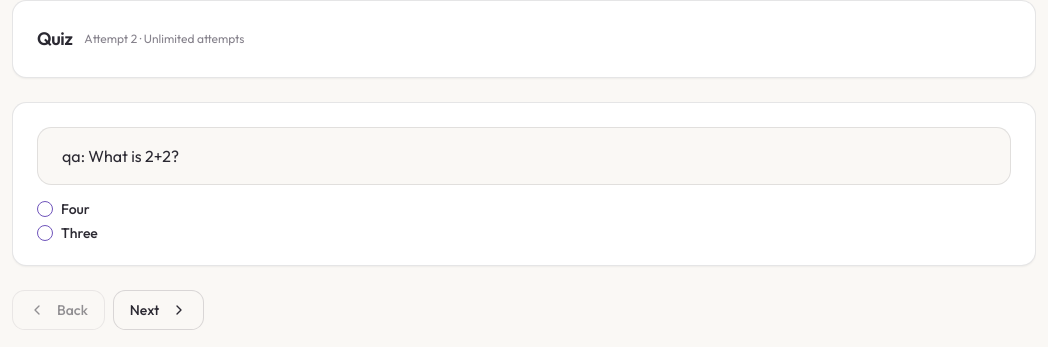
Test: InlineQuizPlayer lifecycle › allowed_attempts=0 keeps unlimited semantics (resume and retake)
The width and height of the screenshot is (1048, 347).
expect the text "Attempt 2 · Unlimited attempts" is shown: met, box [84, 31, 244, 47]
Click the radio button named "Four" next to "Four" at (45,209), box [37, 201, 53, 217]
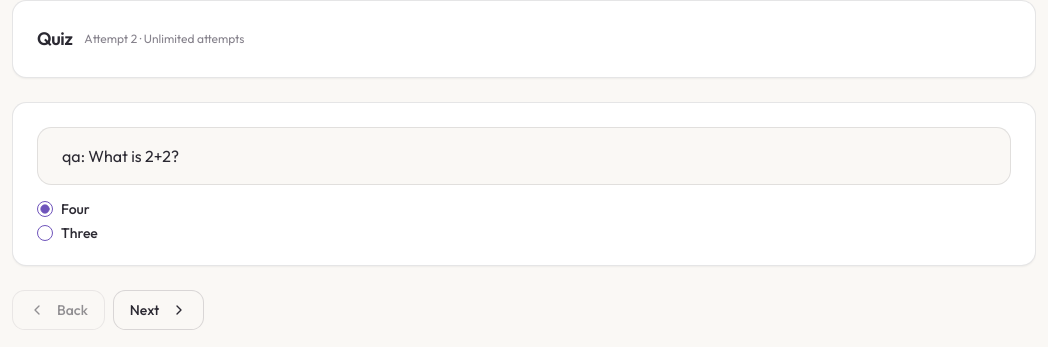
Click the button "Next" at (159,310), box [113, 290, 204, 330]
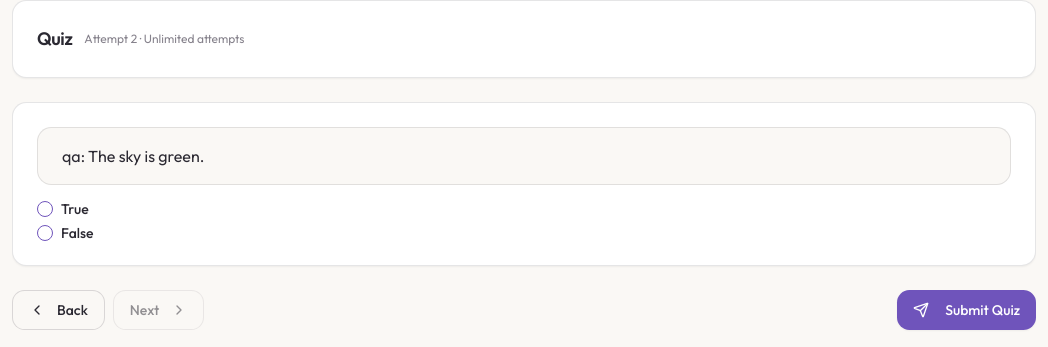
Click the radio button named "False" next to "False" at (45,233), box [37, 225, 53, 241]
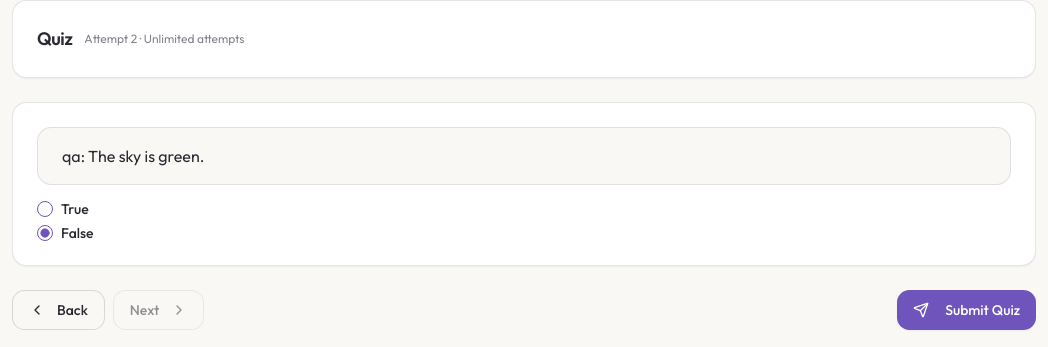
Click the button "Submit Quiz" at (967,310), box [897, 290, 1036, 330]
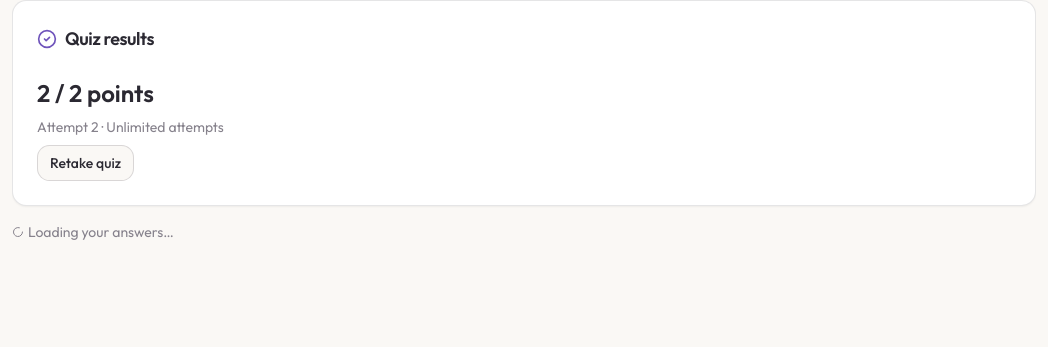
expect the element with test id "quiz-player-review" is shown: met
Click the button "Retake quiz" at (86,163), box [37, 145, 134, 181]
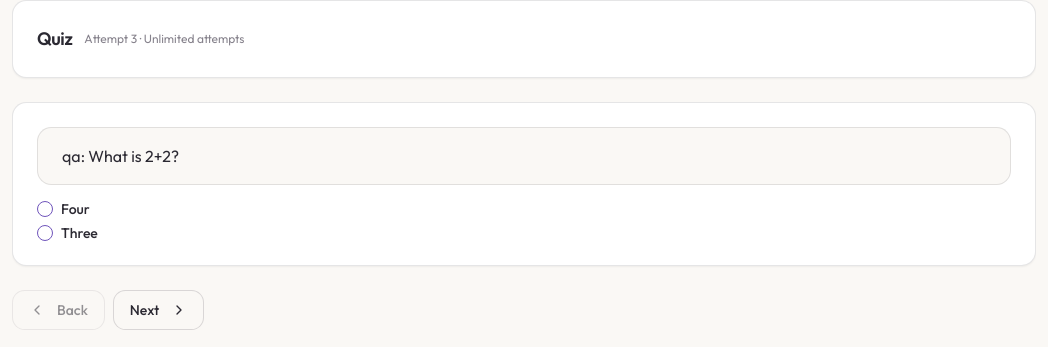
expect the element with test id "quiz-player-active" is shown: met
expect the text "Attempt 3 · Unlimited attempts" is shown: met, box [84, 31, 244, 47]
